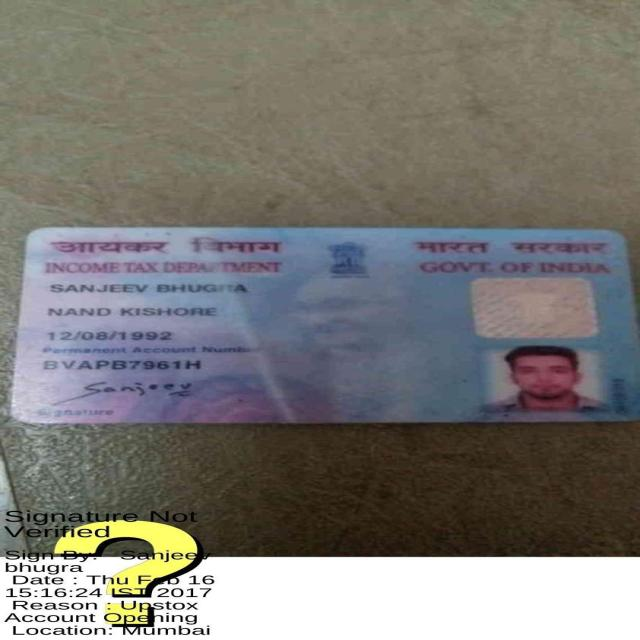pan_card: (10, 232, 640, 422)
